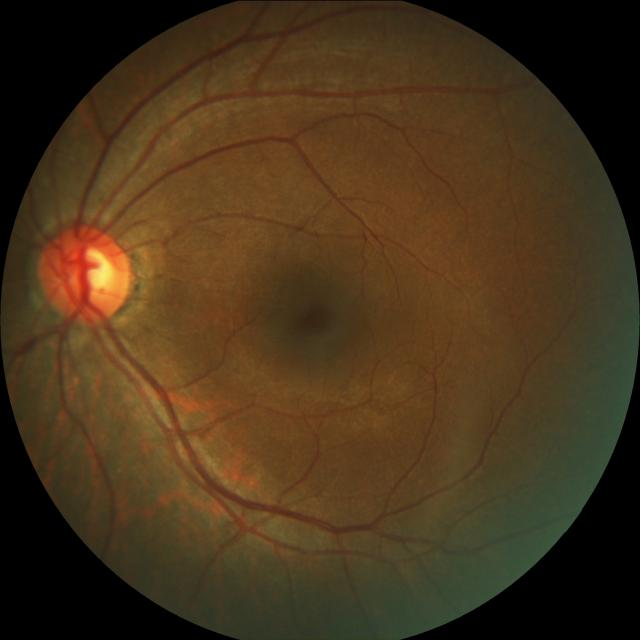OC: (66, 245, 114, 295)
OD: (36, 224, 131, 323)
